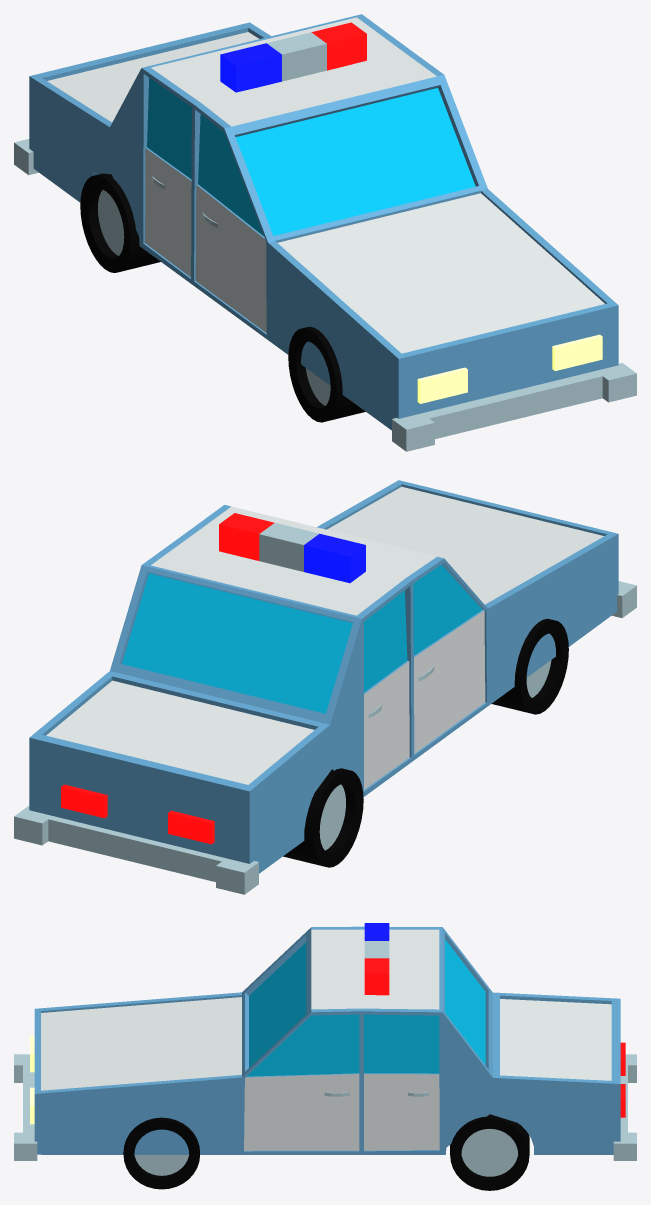
The model's file is polis.glb.
The picture shows the model from 3 angles, top to bottom: view 1: azimuth 30°, elevation 25°; view 2: azimuth 150°, elevation 25°; view 3: azimuth 270°, elevation 25°; orthographic projection. The views are drawn at different scales.
Parts seen in each view (by area): view 1: Plane197, Plane198; view 2: Plane197, Plane198; view 3: Plane197, Plane198.
Part boxes in pixels (<box>): Plane197: <box>14,14,636,451</box>; Plane198: <box>80,173,365,422</box>; Plane197: <box>14,480,636,894</box>; Plane198: <box>283,618,568,867</box>; Plane197: <box>14,923,636,1160</box>; Plane198: <box>123,1114,529,1190</box>.
Size of the model in its own units: 180 by 184 by 525.
